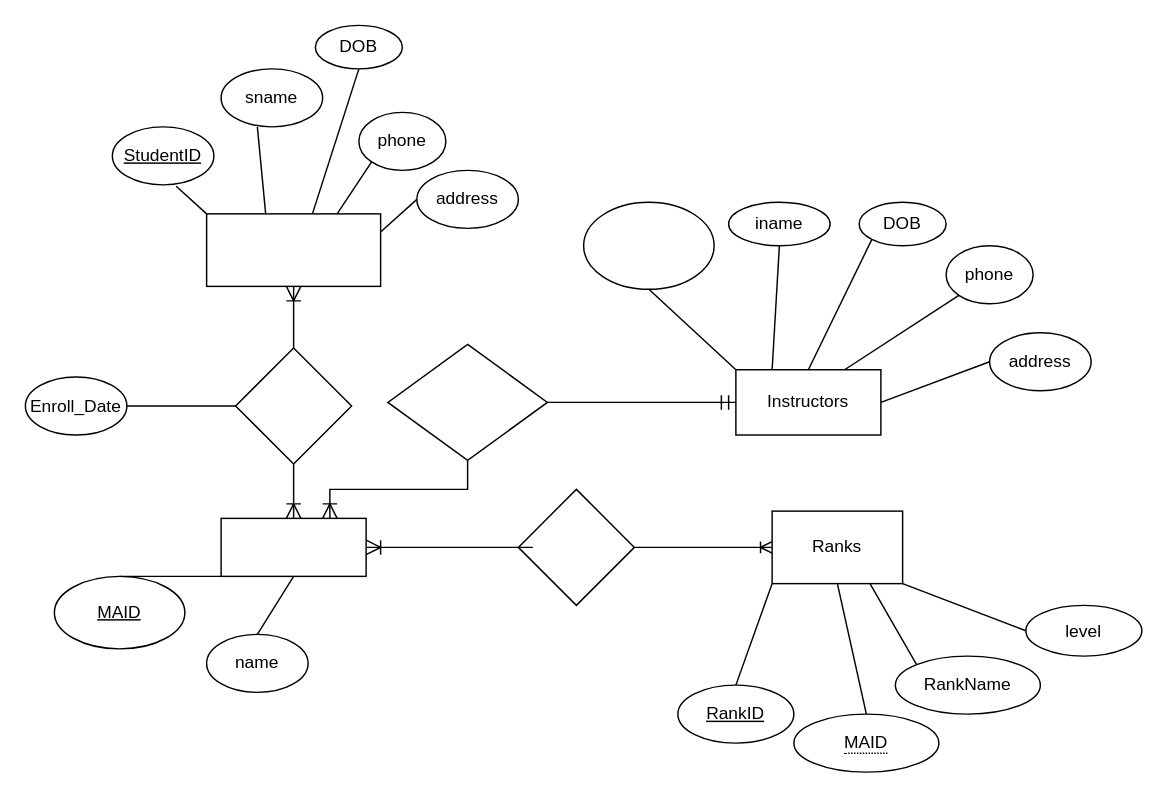
The diagram is 1167 pixels wide and 798 high, and some of its shapes have lost their labels. The box of each missing label's shape, as (x1, y1, x2, y2) in pixels:
Enrolled: (234, 347, 352, 464)
has: (517, 488, 634, 605)
InstructorID: (582, 201, 714, 289)
MartialArts: (220, 517, 366, 576)
Students: (205, 212, 381, 286)
Teaches: (386, 343, 547, 460)
